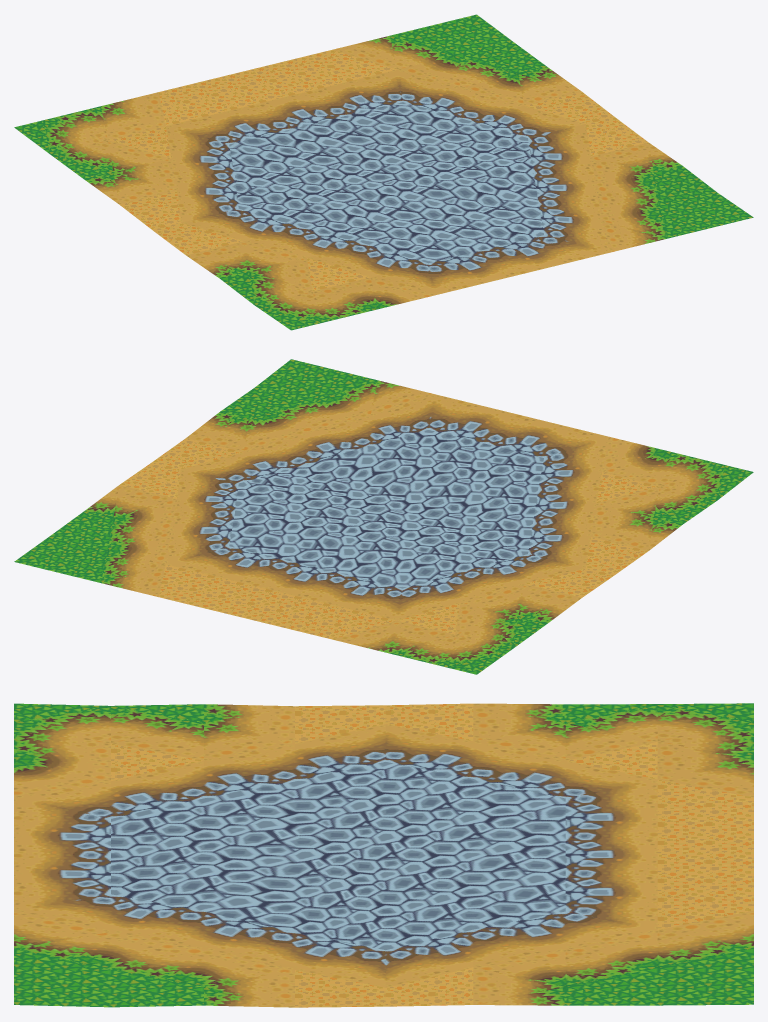
The model's file is c_grd_f_o_2.001.glb.
3 views of the same model, one above another, from view 1: azimuth 30°, elevation 25°; view 2: azimuth 150°, elevation 25°; view 3: azimuth 270°, elevation 25° (orthographic). The views are drawn at different scales.
Visible parts, largest first — view 1: c_grd_f_o_2.001; view 2: c_grd_f_o_2.001; view 3: c_grd_f_o_2.001.
Boxes of the visible parts, box(x1,y1,x2,y2) form: c_grd_f_o_2.001: box(14, 14, 753, 330); c_grd_f_o_2.001: box(14, 359, 753, 674); c_grd_f_o_2.001: box(14, 703, 753, 1007).
Size of the model in its own units: 32 by 0.1406 by 33.2.
Materials: 5 (5 with a texture image).
